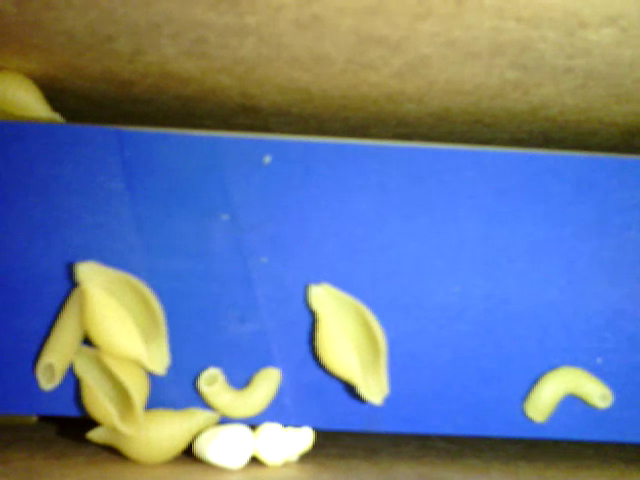elbow: (524, 366, 613, 425), (196, 366, 282, 421)
penne: (32, 286, 84, 395)
shell: (73, 260, 171, 379), (308, 283, 392, 408), (83, 407, 221, 463), (75, 350, 151, 433), (1, 68, 67, 123)
